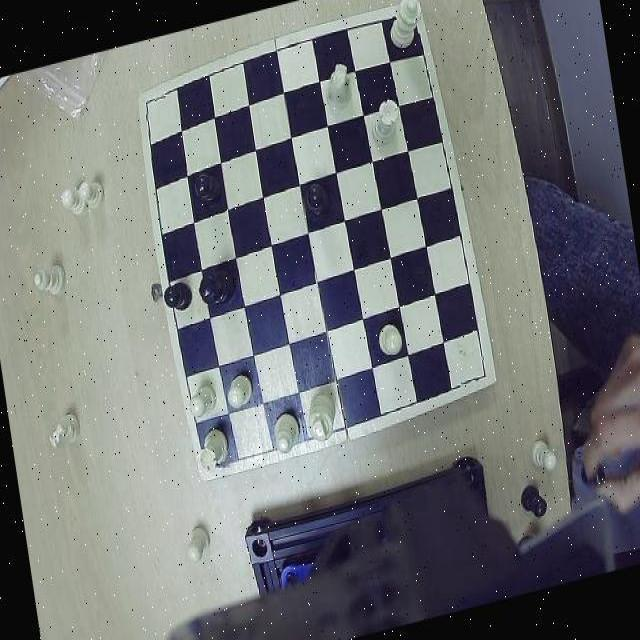chess-table-corners: (457, 352, 492, 390), (196, 444, 232, 480), (391, 4, 423, 38), (141, 90, 168, 122)
